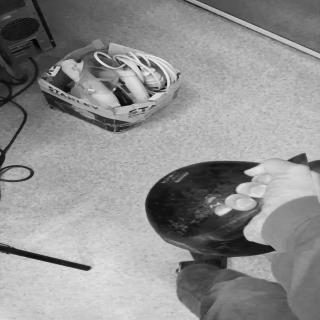kettlebell: (140, 155, 320, 261)
